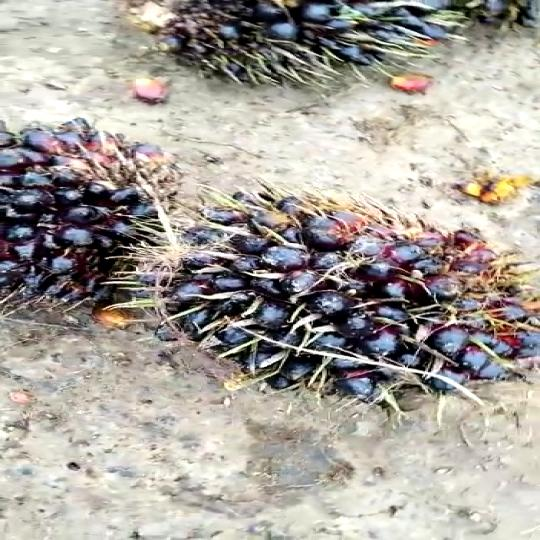mentah: (155, 196, 534, 407), (0, 110, 158, 324), (135, 0, 462, 81)
